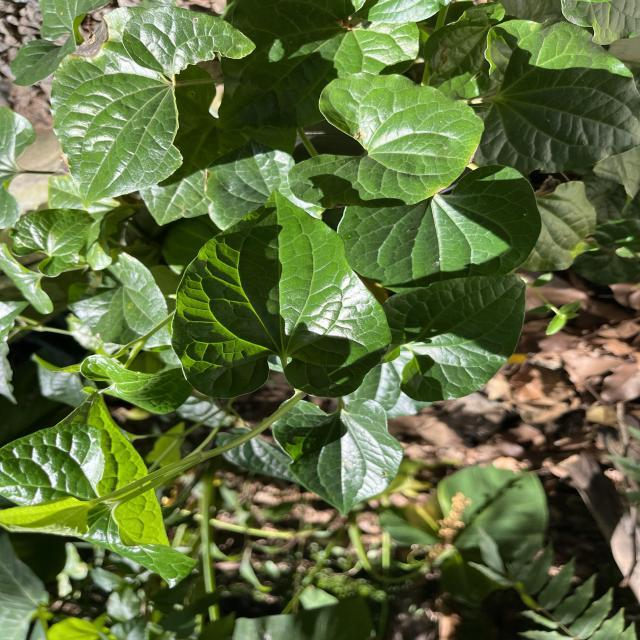Piper longum: (168, 185, 396, 402), (284, 70, 486, 212)
